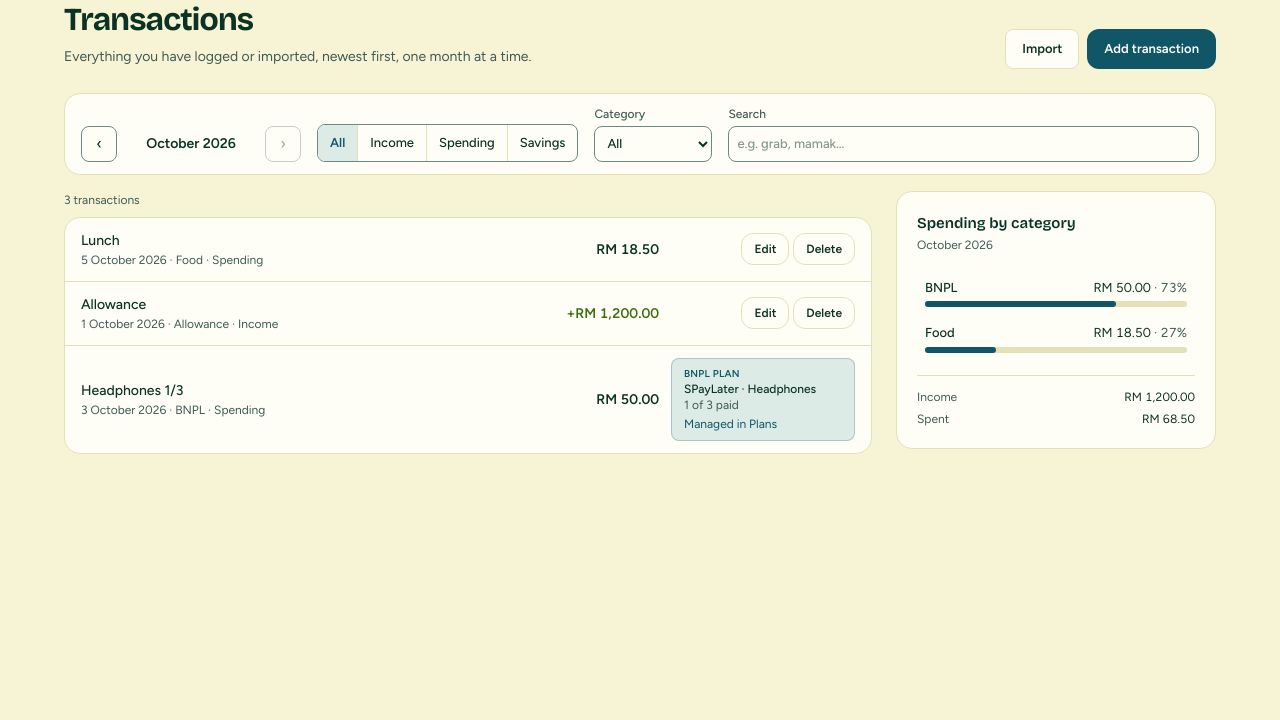
Test: TransactionsScreen › says why Save is disabled instead of just greying it out
Expected: the text "Lunch" is shown, x1=81 y1=232 x2=120 y2=249
Click the button "Add transaction" at (1152, 49), box x1=1087 y1=29 x2=1216 y2=69
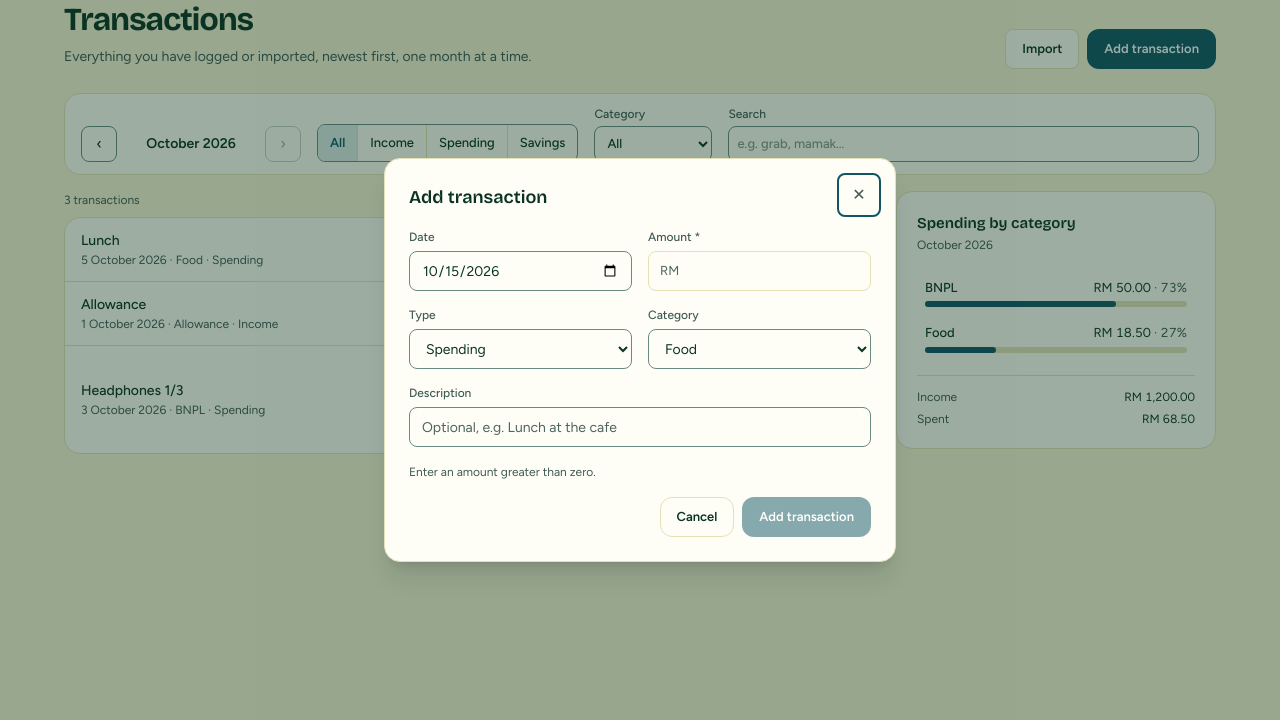
Now the button "Add transaction" is disabled, box x1=742 y1=497 x2=871 y2=537
Type "5" into the field labelled "Amount *" at (760, 271), box x1=648 y1=251 x2=871 y2=291
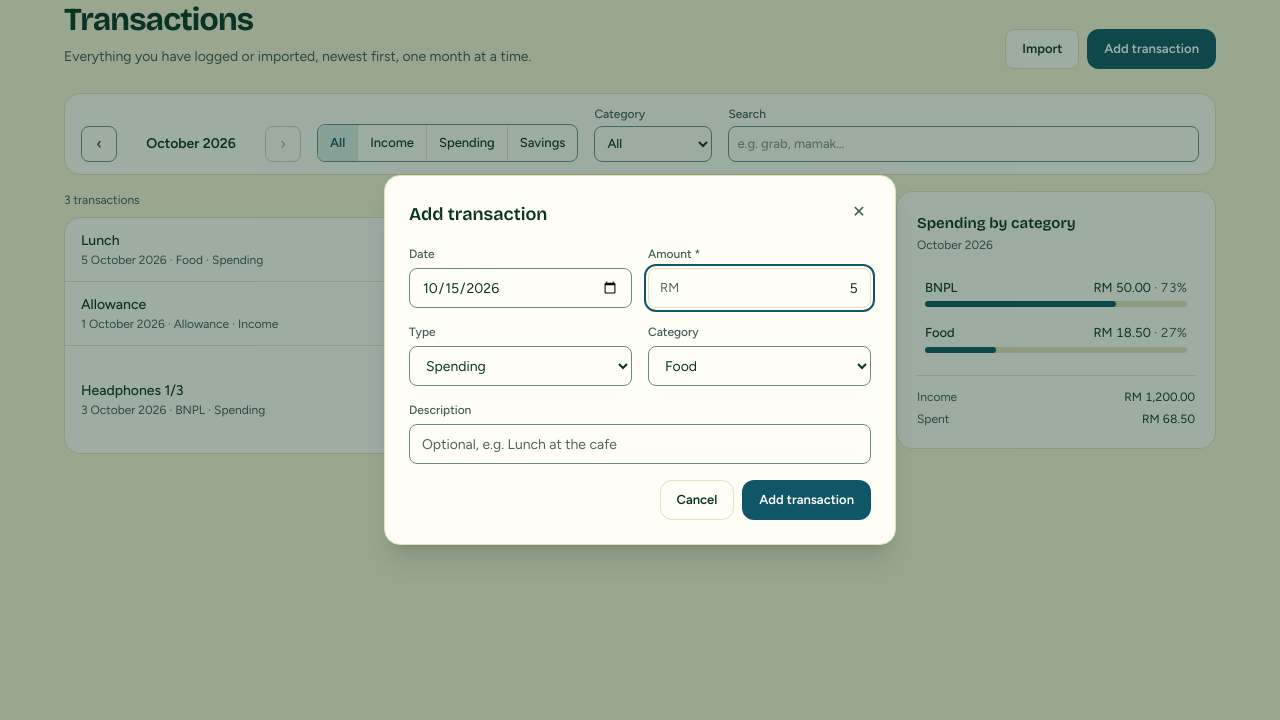
Now the button "Add transaction" is enabled, box x1=742 y1=480 x2=871 y2=520
